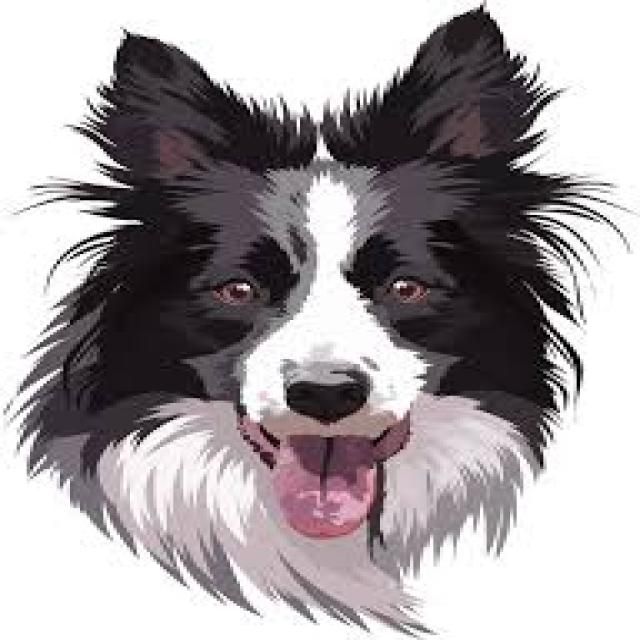ALASKAN_MALAMUTE: (27, 29, 602, 636)
